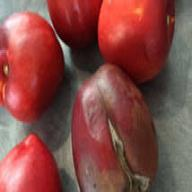apple: (72, 61, 156, 186), (1, 13, 63, 121), (97, 3, 168, 71), (3, 130, 58, 188)
